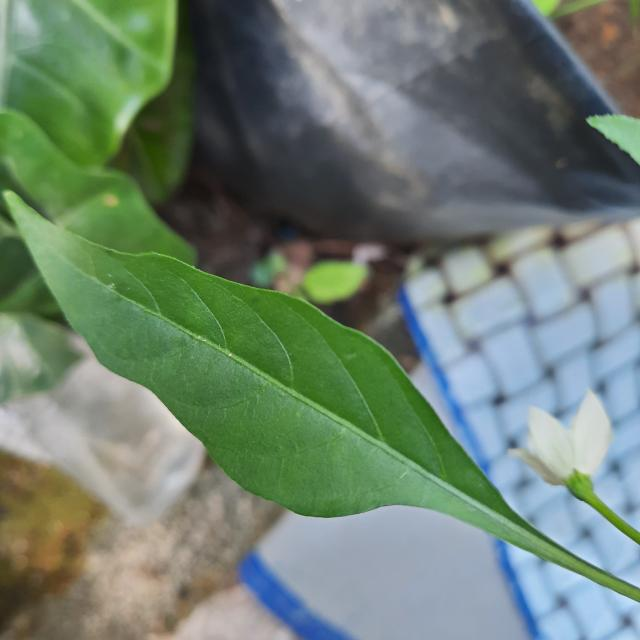sehat: (0, 175, 486, 552)
